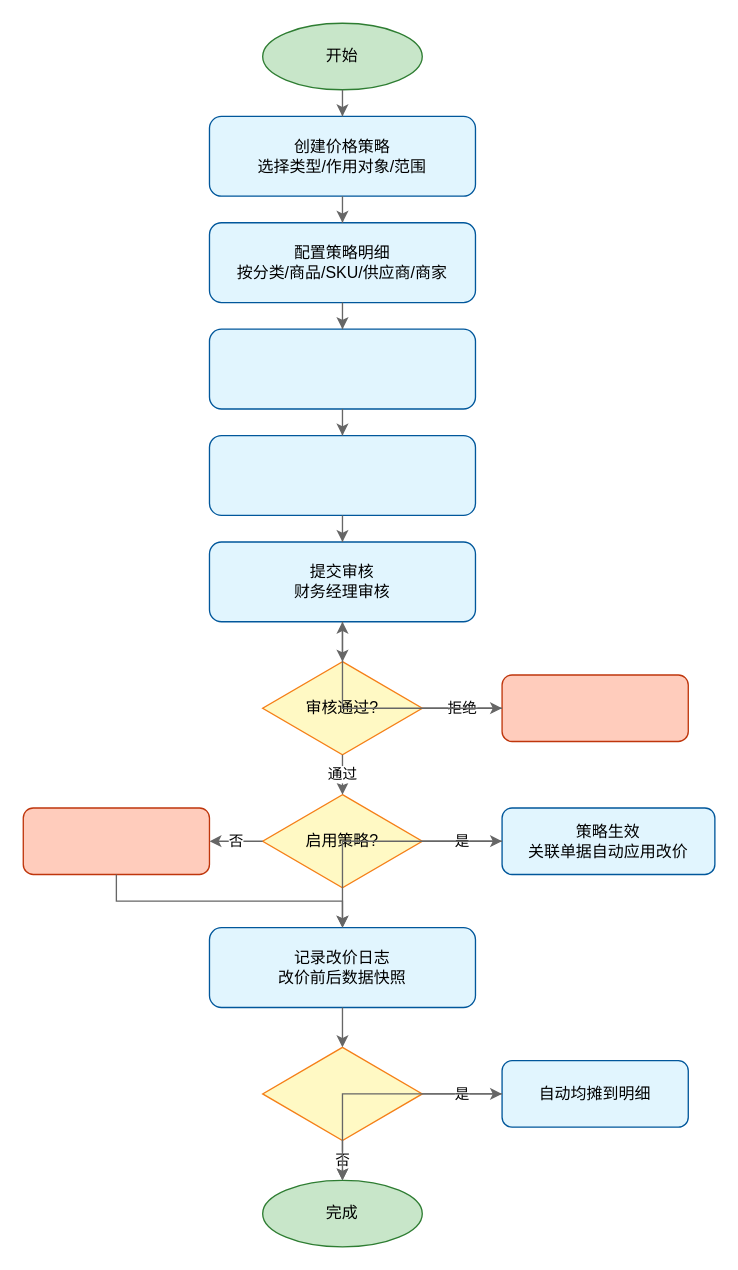
Some shapes in this 738 by 1270 pixel diagram are drawn without their labels. The centre of each missing label's shape, as x and y in pixels:
"涉及费用均摊?" goes at pixel 341 1093.
"策略禁用 不影响现有单据" goes at pixel 115 840.
"设置价格类型 固定价/折扣率/成本加权" goes at pixel 341 368.
"设置生效时间" goes at pixel 341 474.
"退回修改" goes at pixel 594 707.
